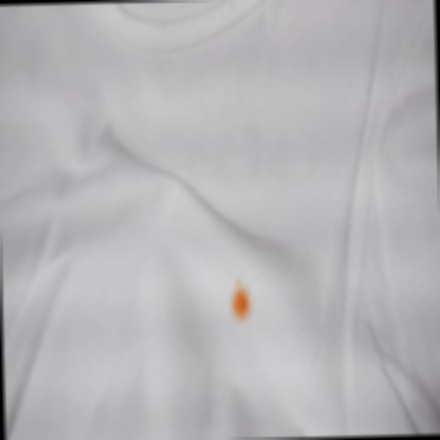kimchi: (225, 274, 253, 324)
